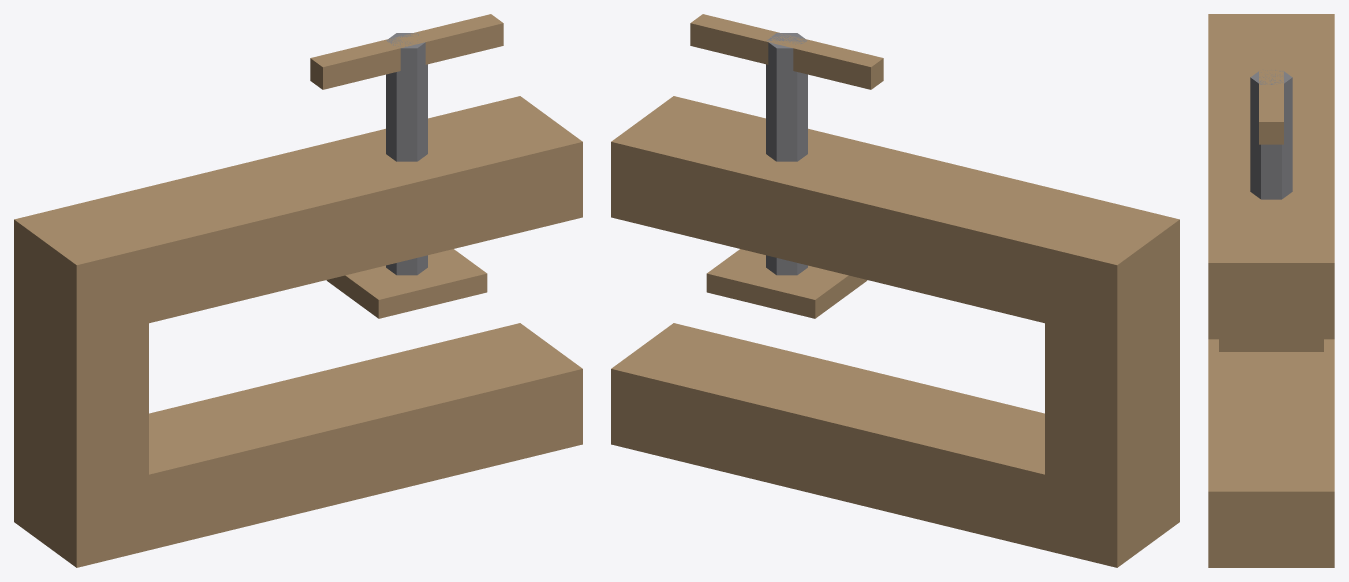
File: prop-mold-clamp-bm1.fbx
3 renders of one model, left to right at view 1: azimuth 30°, elevation 25°; view 2: azimuth 150°, elevation 25°; view 3: azimuth 270°, elevation 25°, orthographic.
Parts seen in each view (by area): view 1: prop-mold-clamp-bm1; view 2: prop-mold-clamp-bm1; view 3: prop-mold-clamp-bm1.
Boxes of the visible parts, x1,y1,x2,y2 form: prop-mold-clamp-bm1: (14, 14, 582, 567); prop-mold-clamp-bm1: (611, 14, 1179, 567); prop-mold-clamp-bm1: (1208, 14, 1334, 567).
Bounding box in the file's own units: 14 × 11 × 3.
